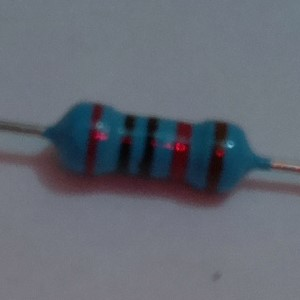black_band: (111, 113, 139, 176), (136, 116, 162, 179)
brown_band: (202, 120, 229, 195)
red_band: (165, 120, 195, 186), (80, 102, 105, 176)
